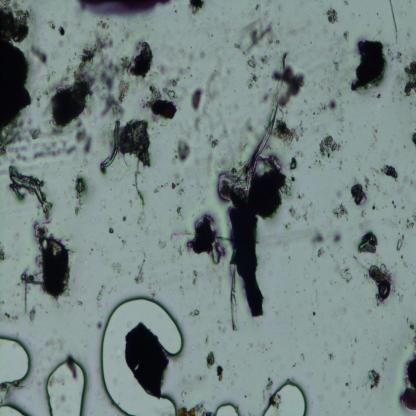Air bubble: (102, 297, 183, 416), (43, 359, 87, 415), (258, 375, 309, 416), (0, 396, 30, 416), (213, 403, 242, 416)
Background material: (46, 34, 122, 131), (0, 1, 44, 159), (26, 219, 76, 304), (125, 322, 169, 396), (101, 118, 152, 176), (354, 32, 388, 102), (186, 213, 228, 266), (237, 19, 280, 70), (0, 332, 33, 389), (44, 122, 92, 160), (118, 40, 158, 80), (148, 78, 181, 126), (364, 260, 394, 308), (284, 63, 310, 111), (160, 44, 194, 78), (272, 119, 307, 149), (398, 352, 416, 408), (285, 201, 314, 235), (318, 131, 347, 159), (72, 171, 90, 216), (168, 177, 186, 220), (206, 67, 226, 104), (180, 113, 209, 137), (357, 229, 381, 256), (401, 57, 416, 98), (348, 180, 369, 209), (208, 265, 222, 306), (170, 136, 190, 164), (190, 83, 206, 117), (204, 321, 223, 349), (134, 173, 146, 216), (377, 159, 401, 180), (304, 100, 326, 122), (169, 233, 184, 264), (390, 229, 409, 253), (108, 257, 127, 281), (202, 147, 218, 175), (179, 400, 208, 415), (312, 228, 326, 258), (388, 0, 398, 42), (40, 334, 62, 352), (322, 93, 339, 116), (32, 43, 48, 65), (334, 110, 348, 135), (134, 258, 146, 287), (395, 175, 411, 196), (365, 368, 381, 389), (325, 6, 341, 27), (386, 44, 402, 64), (196, 181, 209, 205), (339, 264, 353, 286), (188, 0, 206, 17), (368, 124, 378, 154), (116, 23, 130, 43), (332, 204, 349, 220), (0, 308, 19, 322), (322, 340, 334, 362), (97, 285, 114, 300), (135, 216, 150, 233), (247, 74, 261, 92), (92, 19, 110, 33), (309, 156, 328, 169), (189, 264, 200, 286), (404, 211, 416, 231), (330, 227, 344, 244), (43, 16, 56, 34), (205, 350, 216, 371), (58, 18, 69, 39), (373, 177, 385, 196), (208, 131, 220, 149), (27, 308, 39, 326), (400, 24, 412, 42), (254, 2, 269, 16), (355, 255, 365, 275), (331, 58, 343, 73), (106, 214, 114, 235), (152, 182, 164, 196), (260, 92, 272, 106), (195, 374, 210, 385), (18, 268, 28, 284), (118, 236, 128, 252), (405, 314, 415, 330), (0, 244, 7, 265), (62, 189, 70, 207), (256, 341, 268, 353), (343, 375, 353, 389), (264, 376, 274, 389), (157, 238, 166, 252), (371, 198, 380, 212), (246, 118, 255, 132), (217, 366, 224, 384), (297, 348, 306, 362), (197, 49, 208, 60), (190, 309, 200, 321), (398, 289, 405, 306), (205, 27, 214, 40), (34, 92, 41, 108), (98, 197, 106, 211), (295, 189, 305, 200), (389, 85, 395, 103), (343, 27, 350, 42), (411, 128, 416, 148), (368, 167, 379, 176), (290, 157, 297, 171), (79, 282, 87, 294), (290, 170, 297, 183), (88, 247, 96, 258), (359, 209, 367, 220), (336, 159, 344, 170), (332, 375, 340, 385), (346, 398, 352, 411), (95, 319, 102, 330), (294, 150, 303, 158), (0, 167, 8, 176), (284, 254, 292, 263), (179, 285, 185, 297), (76, 298, 85, 306), (407, 100, 414, 110), (413, 331, 416, 353), (401, 200, 406, 213), (335, 192, 342, 201), (181, 388, 187, 398), (343, 0, 350, 8), (329, 251, 335, 260), (403, 261, 409, 269), (311, 277, 319, 283), (122, 214, 127, 222), (392, 198, 396, 208), (311, 309, 316, 316), (330, 278, 334, 286), (172, 9, 178, 14), (400, 253, 404, 260), (342, 389, 346, 396), (292, 363, 297, 368), (306, 164, 312, 168), (16, 292, 19, 297), (244, 394, 247, 399)
Cellulose filter fibre: (219, 52, 288, 200), (7, 164, 52, 218), (226, 264, 240, 334)
Fragment: (228, 207, 266, 319)
Pen: (79, 0, 171, 19)
